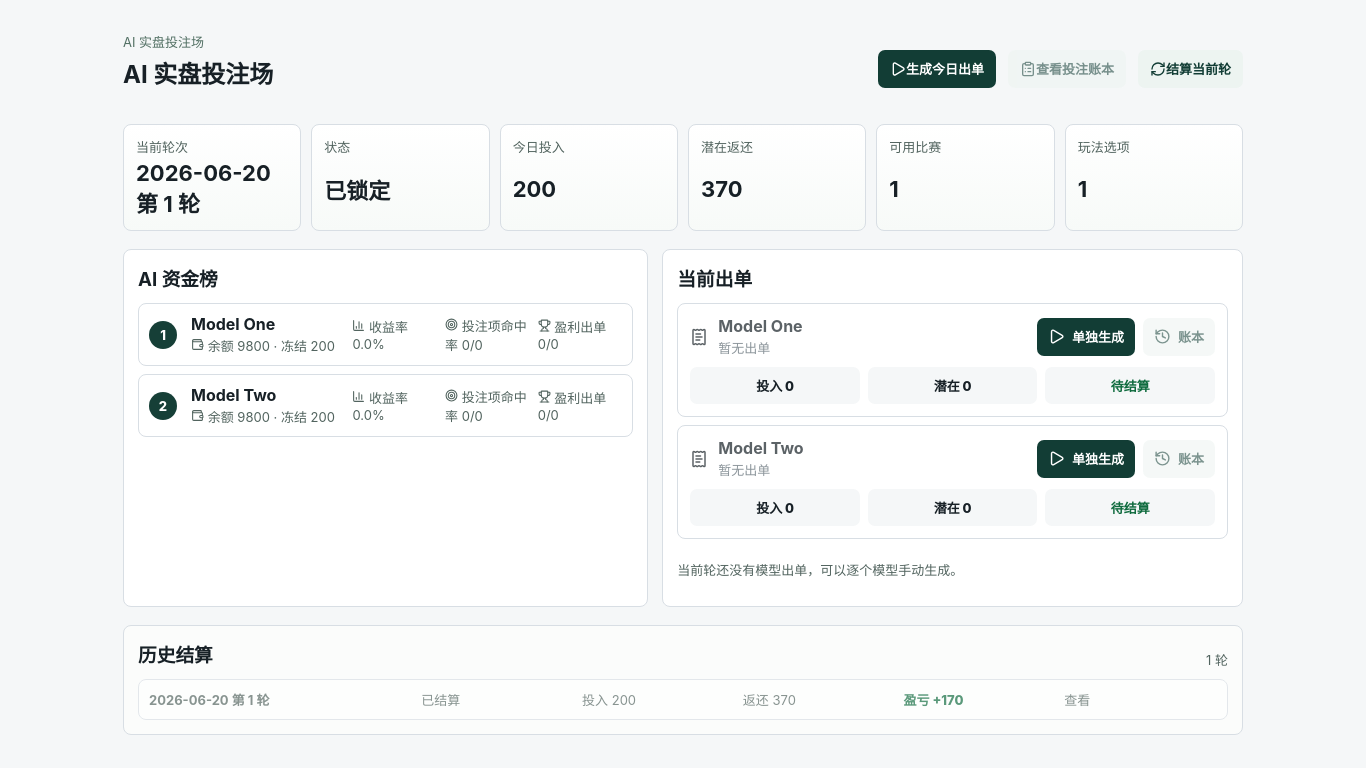
Test: BettingArenaPage › allows multiple model generation buttons to be busy at the same time
The width and height of the screenshot is (1366, 768).
What coordinates should you click on to do the following:
click the button with aria-label "生成 Model One 投注单"
I would click on:
 (1086, 336)
Its box is [1037,318,1135,356].
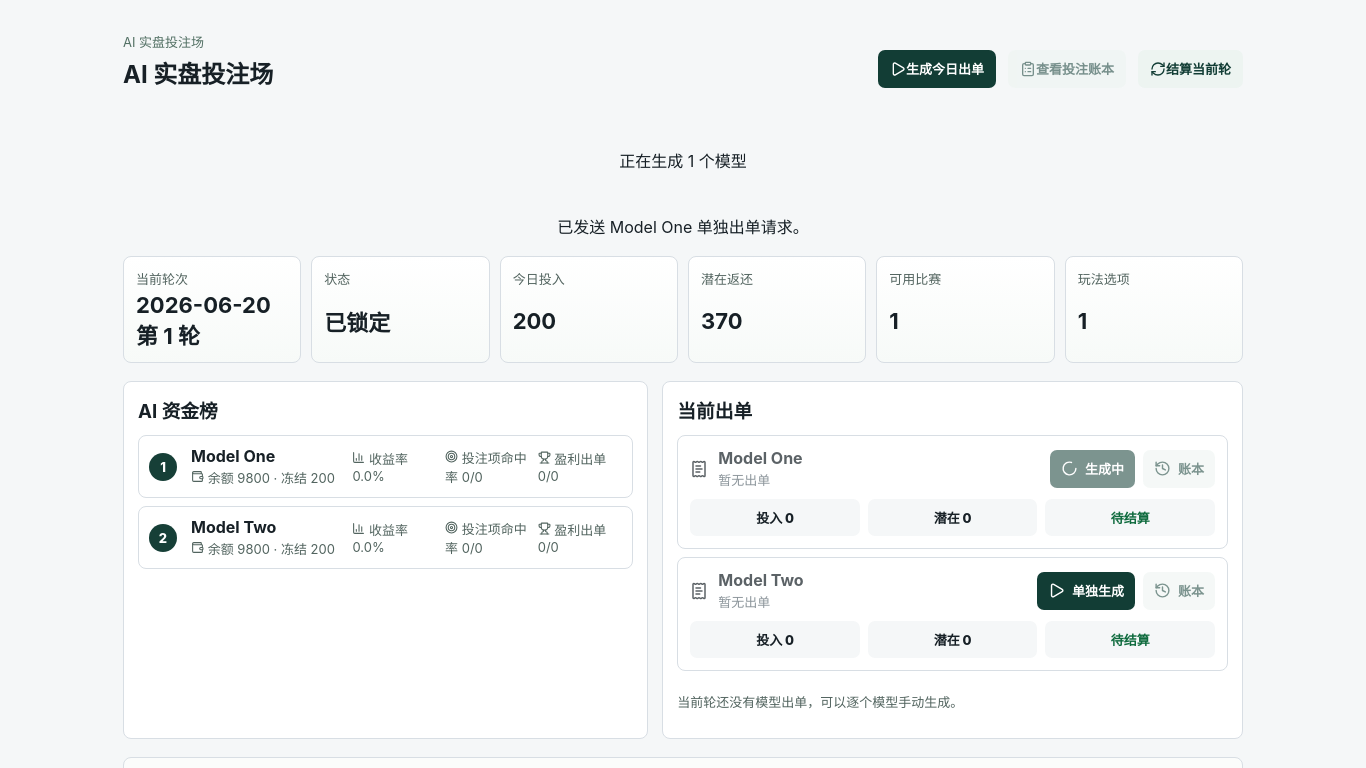
What coordinates should you click on to do the following:
click the button with aria-label "生成 Model Two 投注单"
I would click on:
 (1086, 590)
Its box is [1037,572,1135,610].
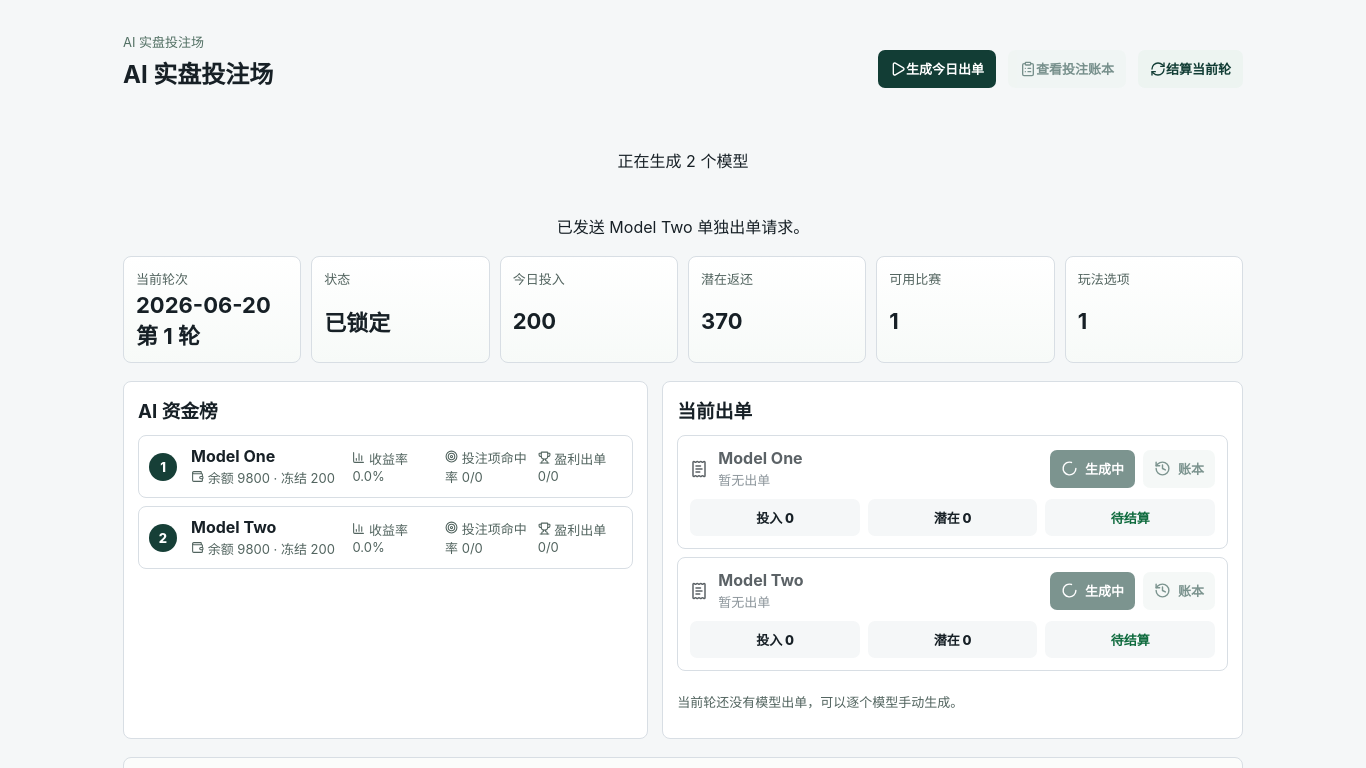
Check: the text "生成中" is shown 2 times, box [1085,459,1124,478]; [1085,581,1124,600]
Check: the text "正在生成 2 个模型" is shown, box [618,151,748,171]
